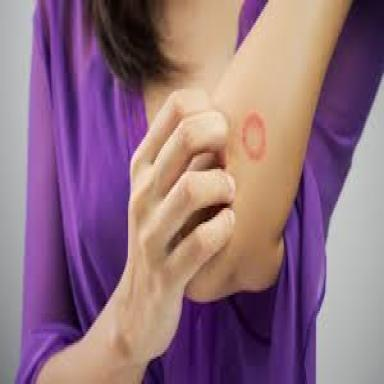Tinea-Corporis: (242, 110, 266, 160)
